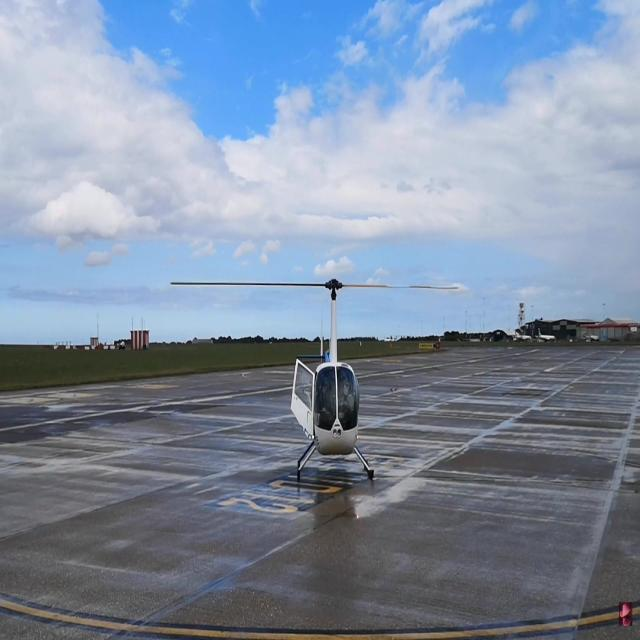CIV_HELO: (289, 277, 374, 482)
